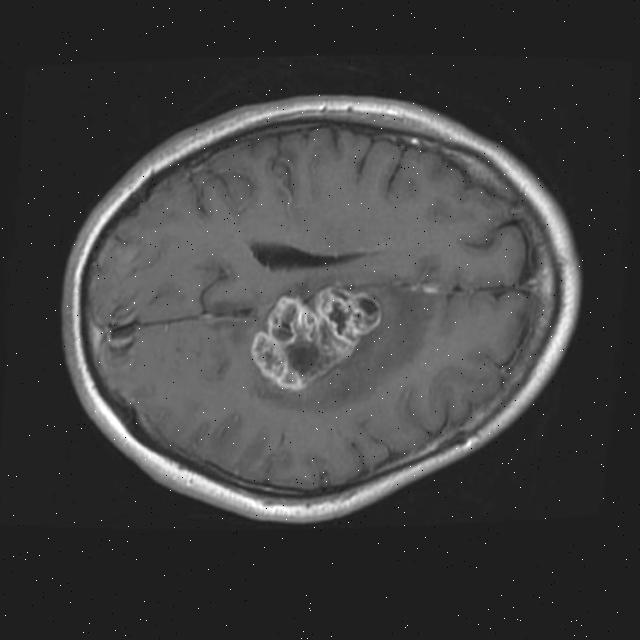Glioma: (246, 277, 384, 399)
